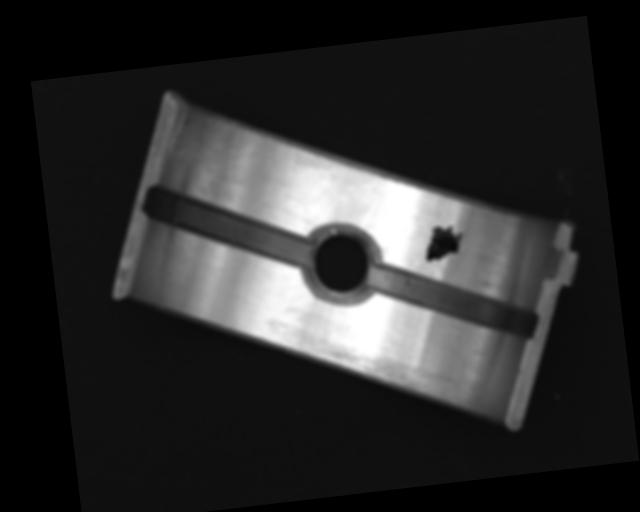blot: (422, 222, 468, 264)
gap: (143, 170, 313, 283), (368, 250, 539, 356)
hole: (298, 220, 383, 310)
scratch: (305, 331, 466, 422)
